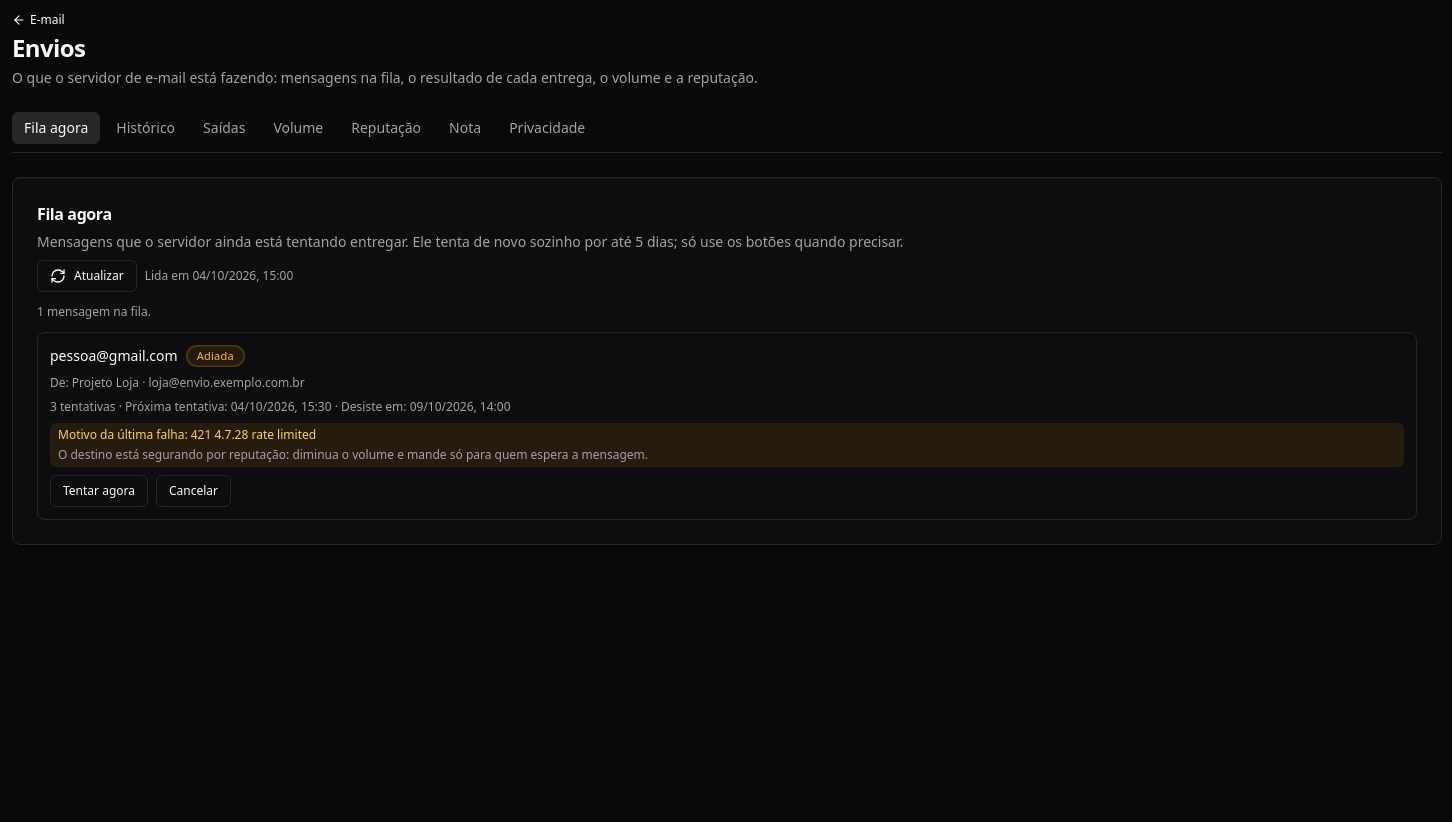
Test: Envios — fila agora › erro da ação aparece para a pessoa
Click the button "Cancelar" at (194, 491), box [156, 475, 231, 507]
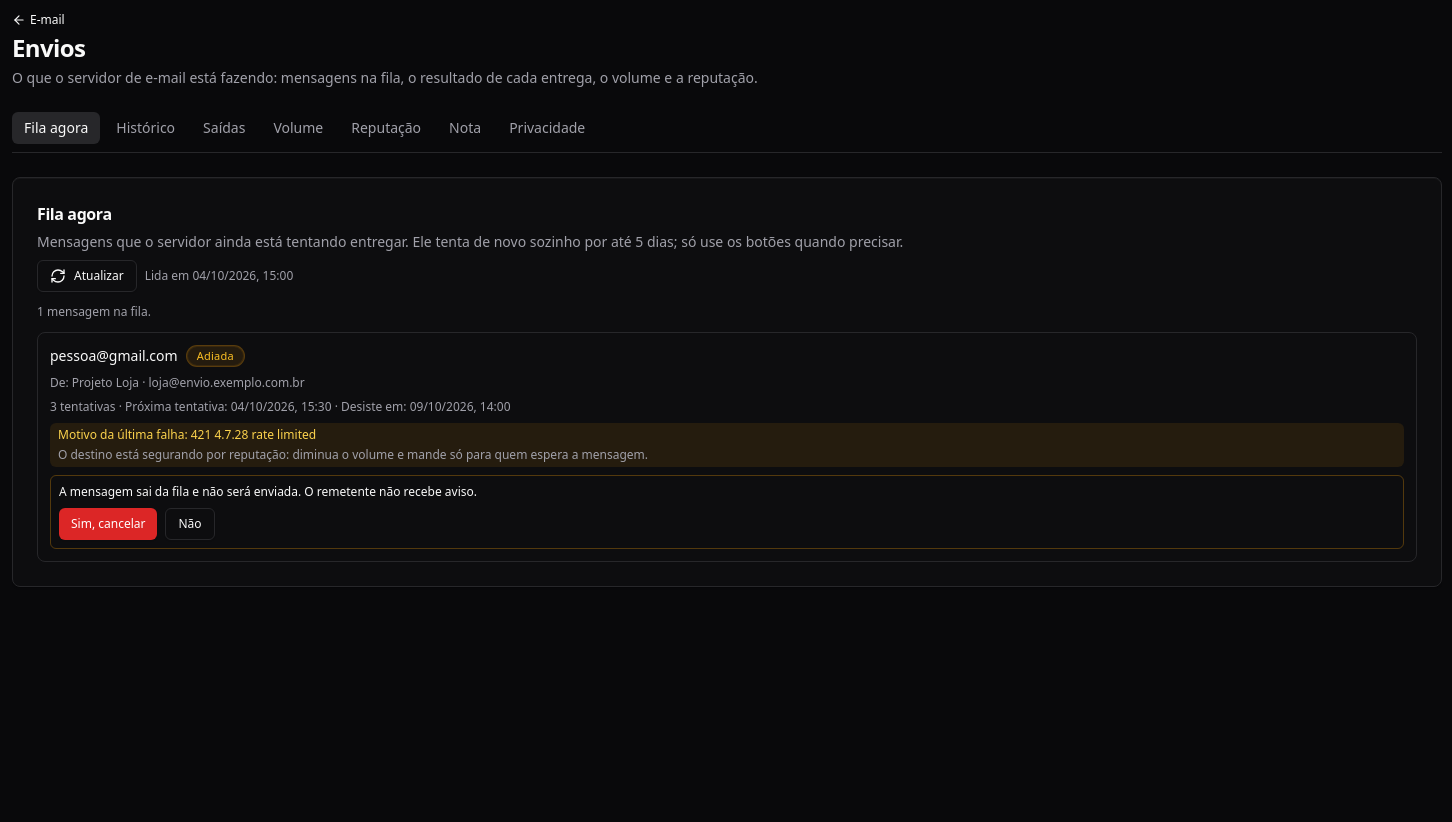
Click the button "Sim, cancelar" at (108, 524), box [59, 508, 158, 540]
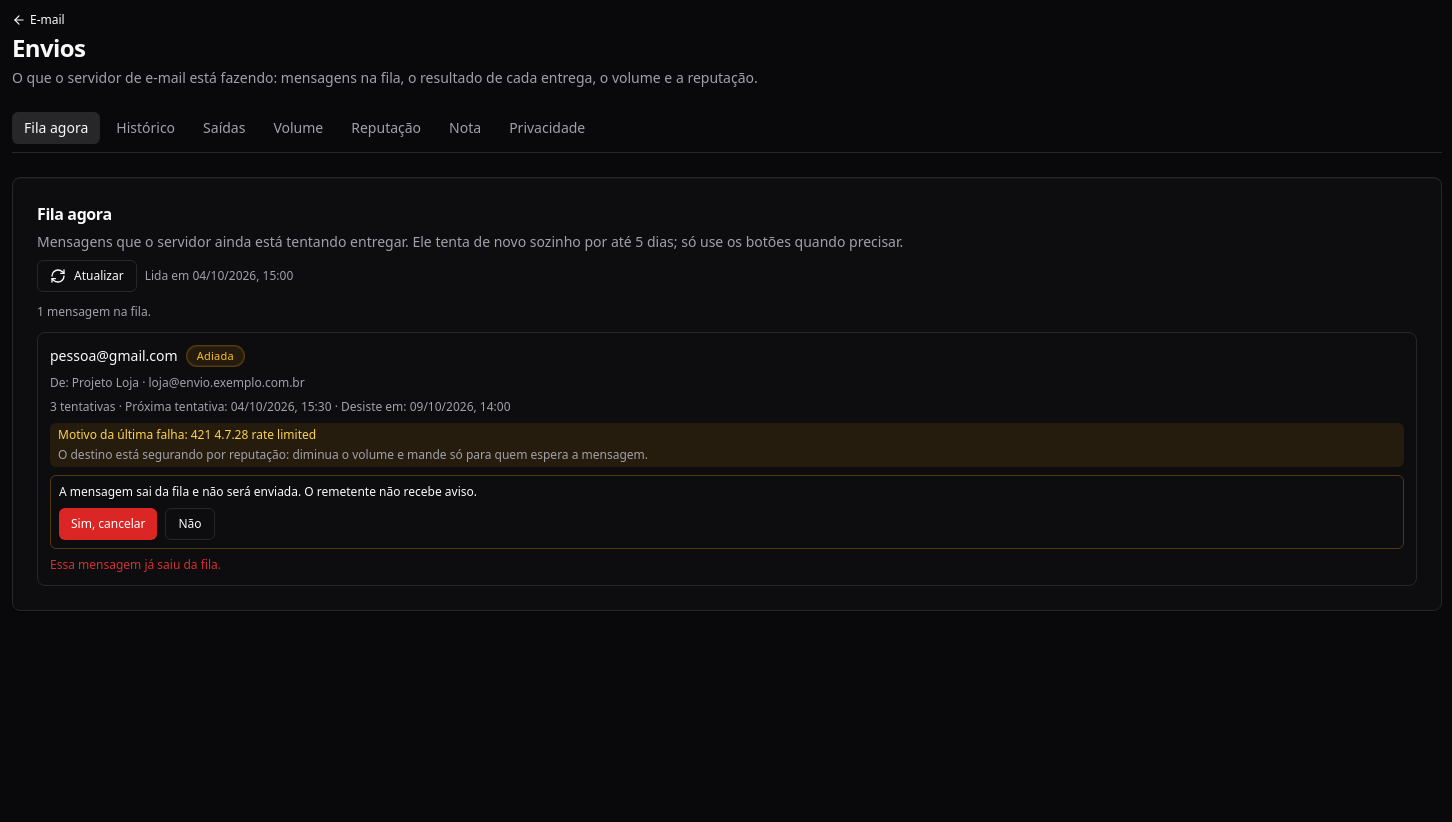
Expected: the text "Essa mensagem já saiu da fila." is shown, [50, 556, 221, 573]
